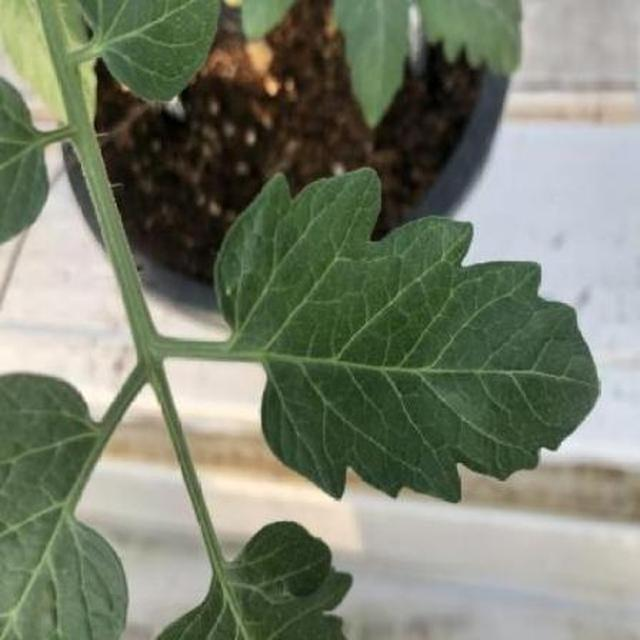Healthy Leaf: (307, 239, 640, 640)
